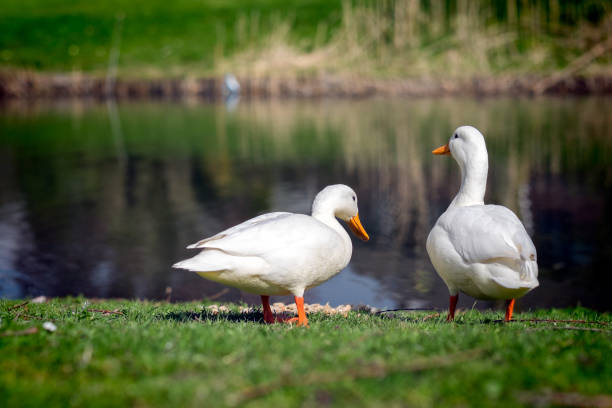goose: (166, 180, 376, 341), (419, 121, 544, 329)
